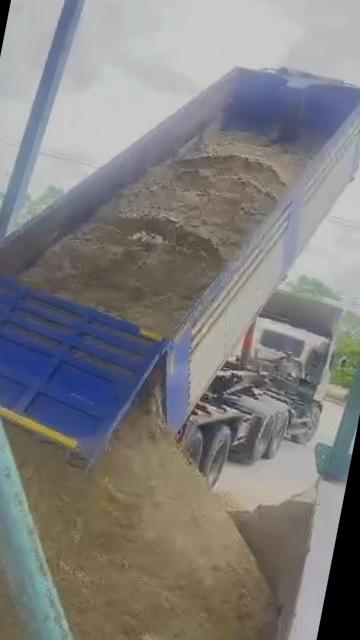sand: (10, 360, 274, 640), (20, 130, 305, 334), (217, 489, 315, 613), (0, 396, 23, 640)
